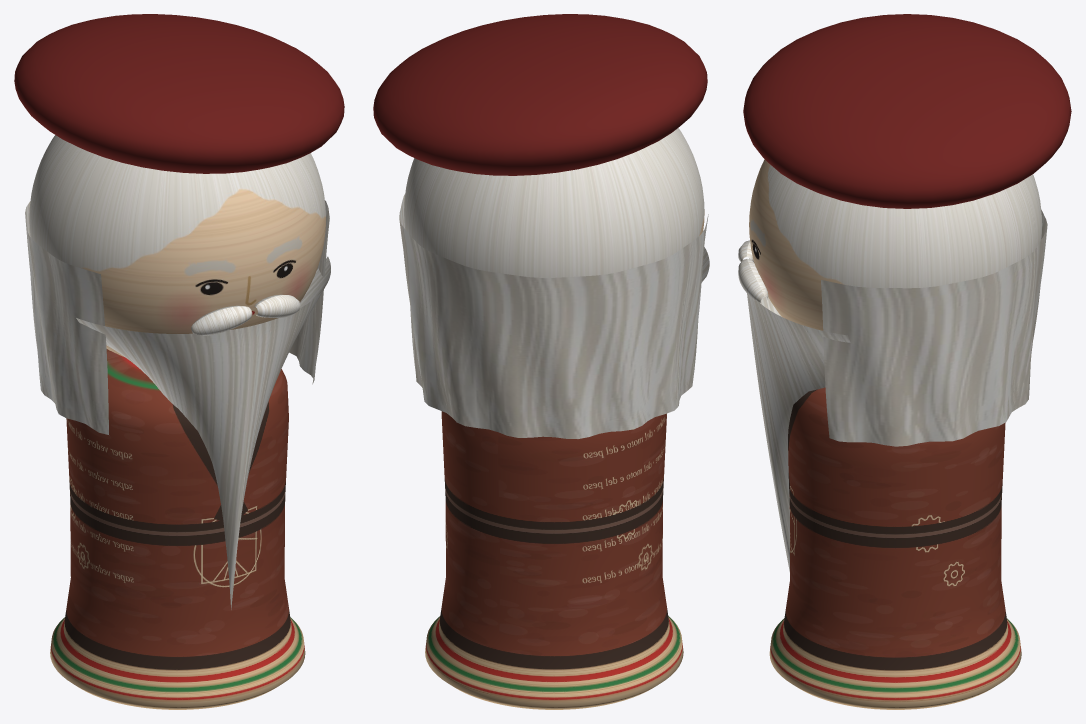
The model's file is leonardo.glb.
3 renders of one model, left to right at view 1: azimuth 30°, elevation 25°; view 2: azimuth 150°, elevation 25°; view 3: azimuth 270°, elevation 25°, orthographic. The views are drawn at different scales.
Parts seen in each view (by area): view 1: Leonardo da Vinci, body, head; view 2: Leonardo da Vinci, body, head; view 3: Leonardo da Vinci, body, head.
Part boxes in pixels (x1,y1,x2,y2): Leonardo da Vinci: [14, 14, 344, 609]; body: [50, 349, 305, 709]; head: [29, 135, 325, 356]; Leonardo da Vinci: [373, 14, 709, 438]; body: [425, 411, 683, 709]; head: [404, 128, 704, 277]; Leonardo da Vinci: [738, 14, 1071, 571]; body: [769, 387, 1021, 709]; head: [749, 159, 1042, 330].
Size of the model in its own units: 0.0834 by 0.1702 by 0.0852.
7 materials, 5 textured.
